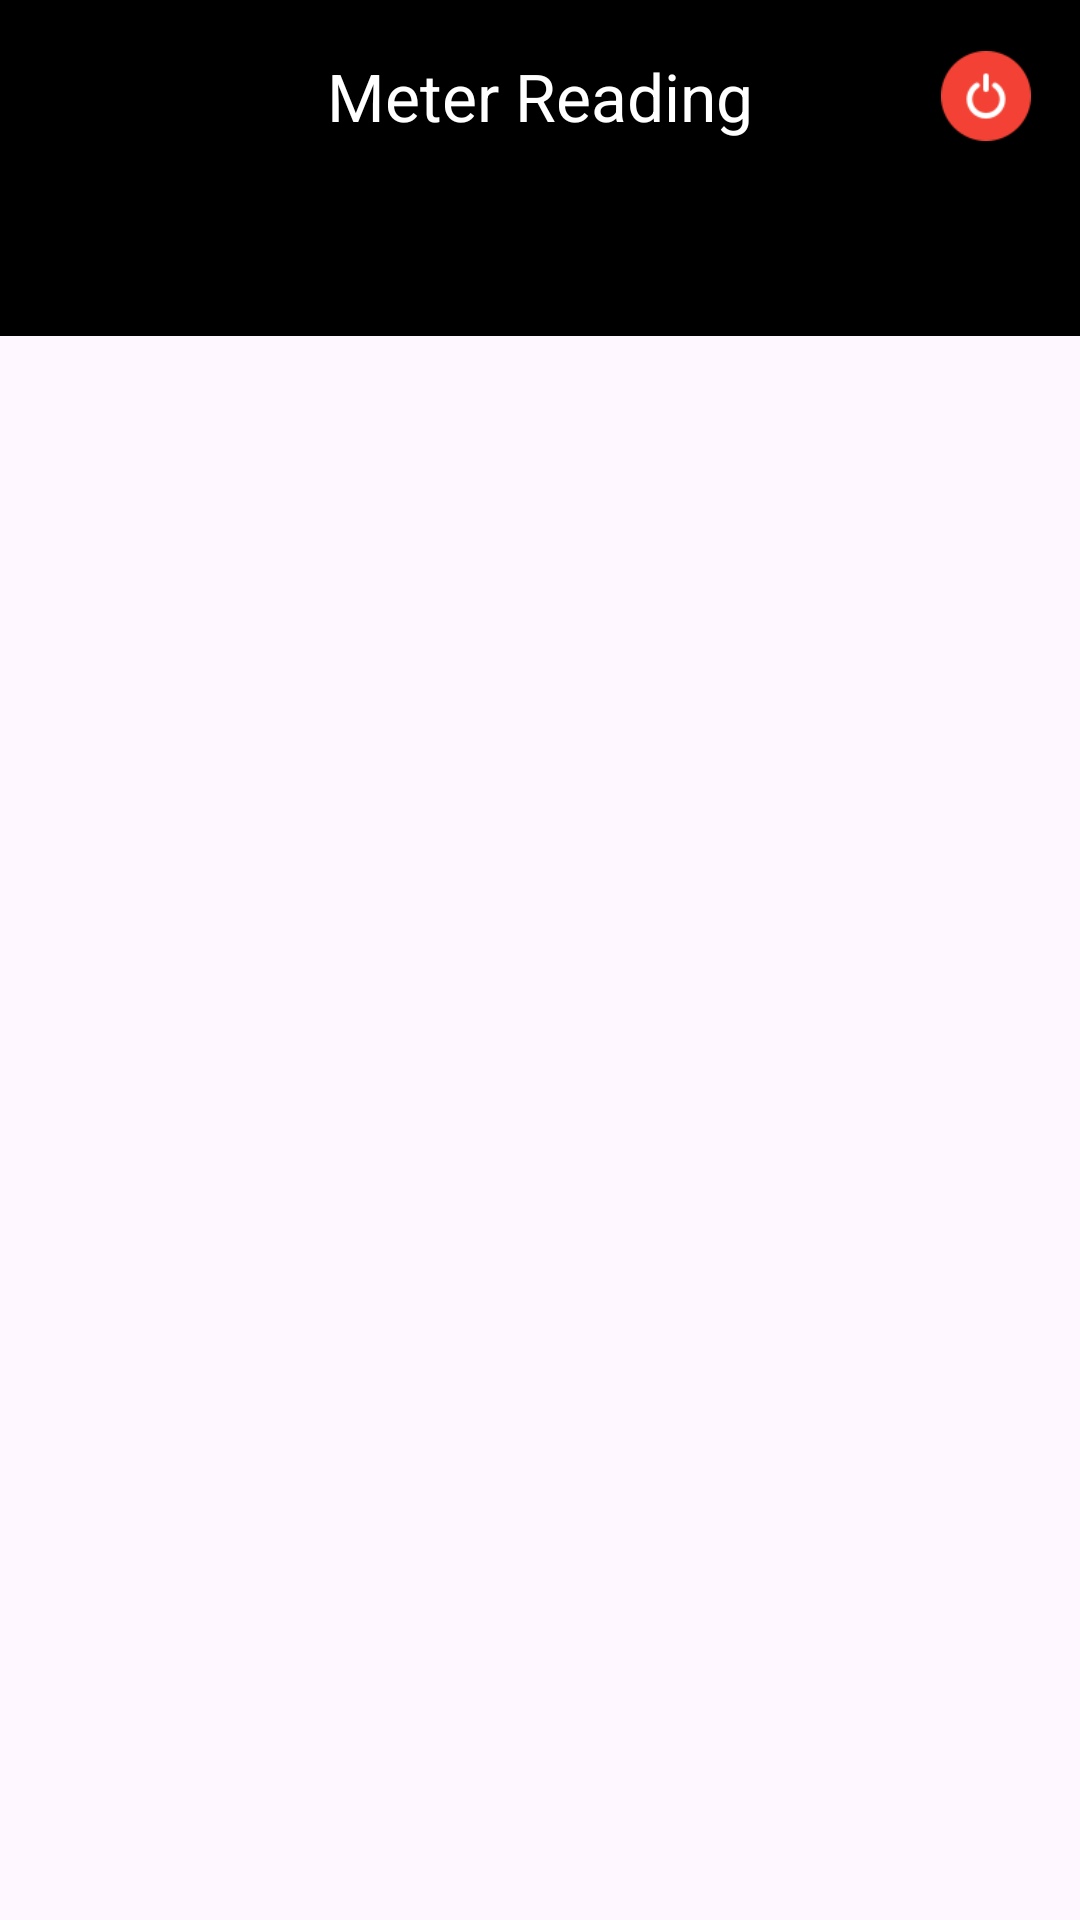

Screen size 1080px×1920px. Icon name, then its box in pixels as (x1, y1, x2, y2):
shutdown: (941, 51, 1031, 141)
